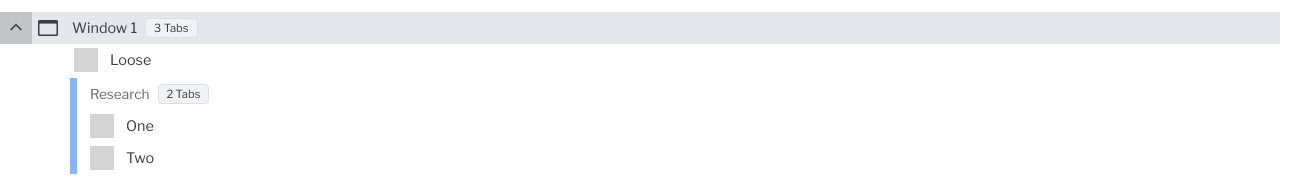
Test: the group title renames, and Open opens › while searching: no Open, and the title still renames
The image size is (1292, 191).
Click the button "Research": (118, 94) [86,78,150,110]
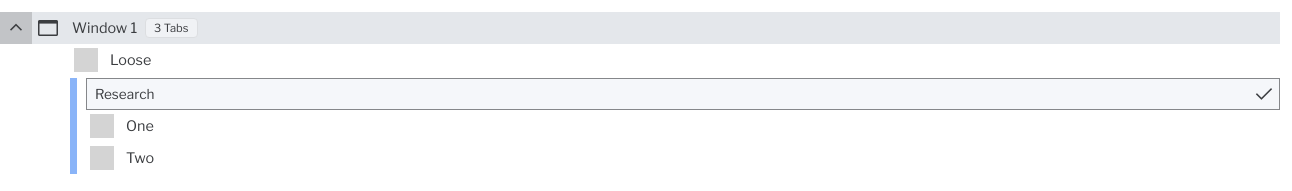
Expected: the field named "Rename group: Research" is shown, [86,78,1280,110]
